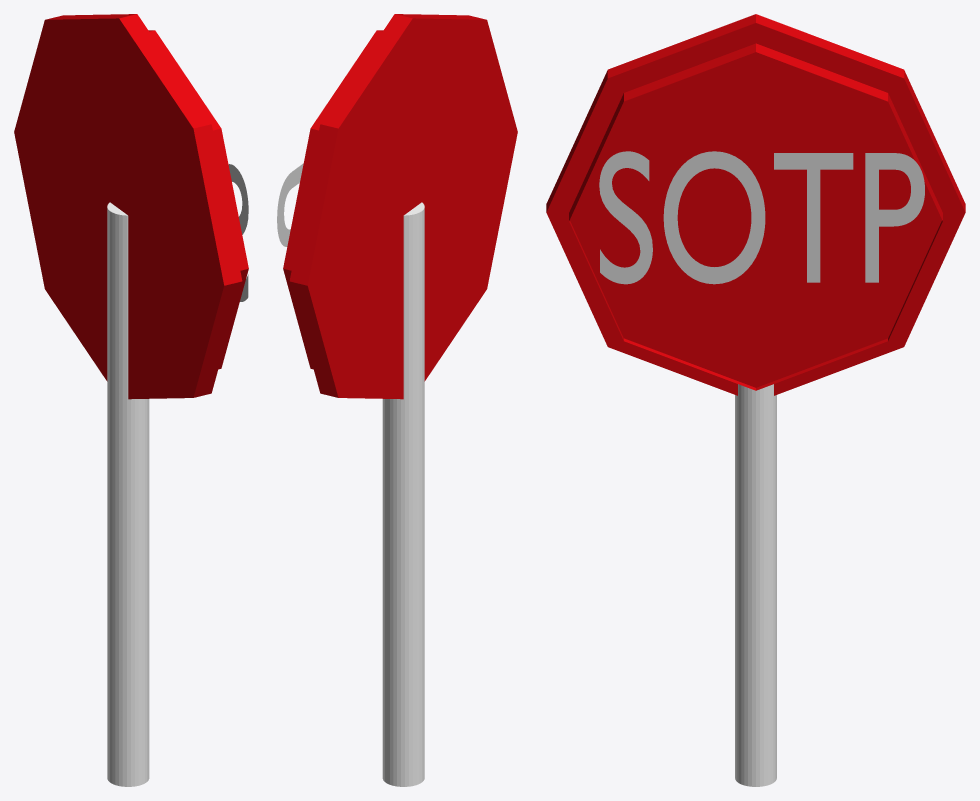
File: Lab10.fbx
3 renders of one model, left to right at view 1: azimuth 30°, elevation 25°; view 2: azimuth 150°, elevation 25°; view 3: azimuth 270°, elevation 25°, orthographic.
Parts seen in each view (by area): view 1: Cylinder.001, Cylinder, Text; view 2: Cylinder.001, Cylinder, Text; view 3: Cylinder.001, Cylinder, Text.
Part boxes in pixels (bbox=[...]): Cylinder.001: bbox=[14, 14, 248, 399]; Cylinder: bbox=[107, 202, 149, 786]; Text: bbox=[228, 164, 248, 301]; Cylinder.001: bbox=[283, 14, 517, 399]; Cylinder: bbox=[382, 202, 424, 786]; Text: bbox=[277, 163, 303, 246]; Cylinder.001: bbox=[546, 14, 965, 395]; Cylinder: bbox=[735, 384, 776, 786]; Text: bbox=[599, 151, 924, 284].
Bounding box in the file's own units: 3.3 × 40 × 20.
